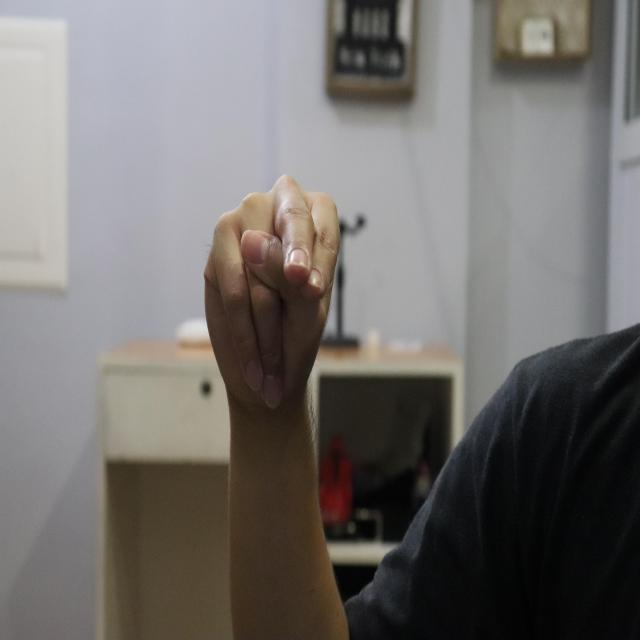N: (204, 174, 342, 413)
